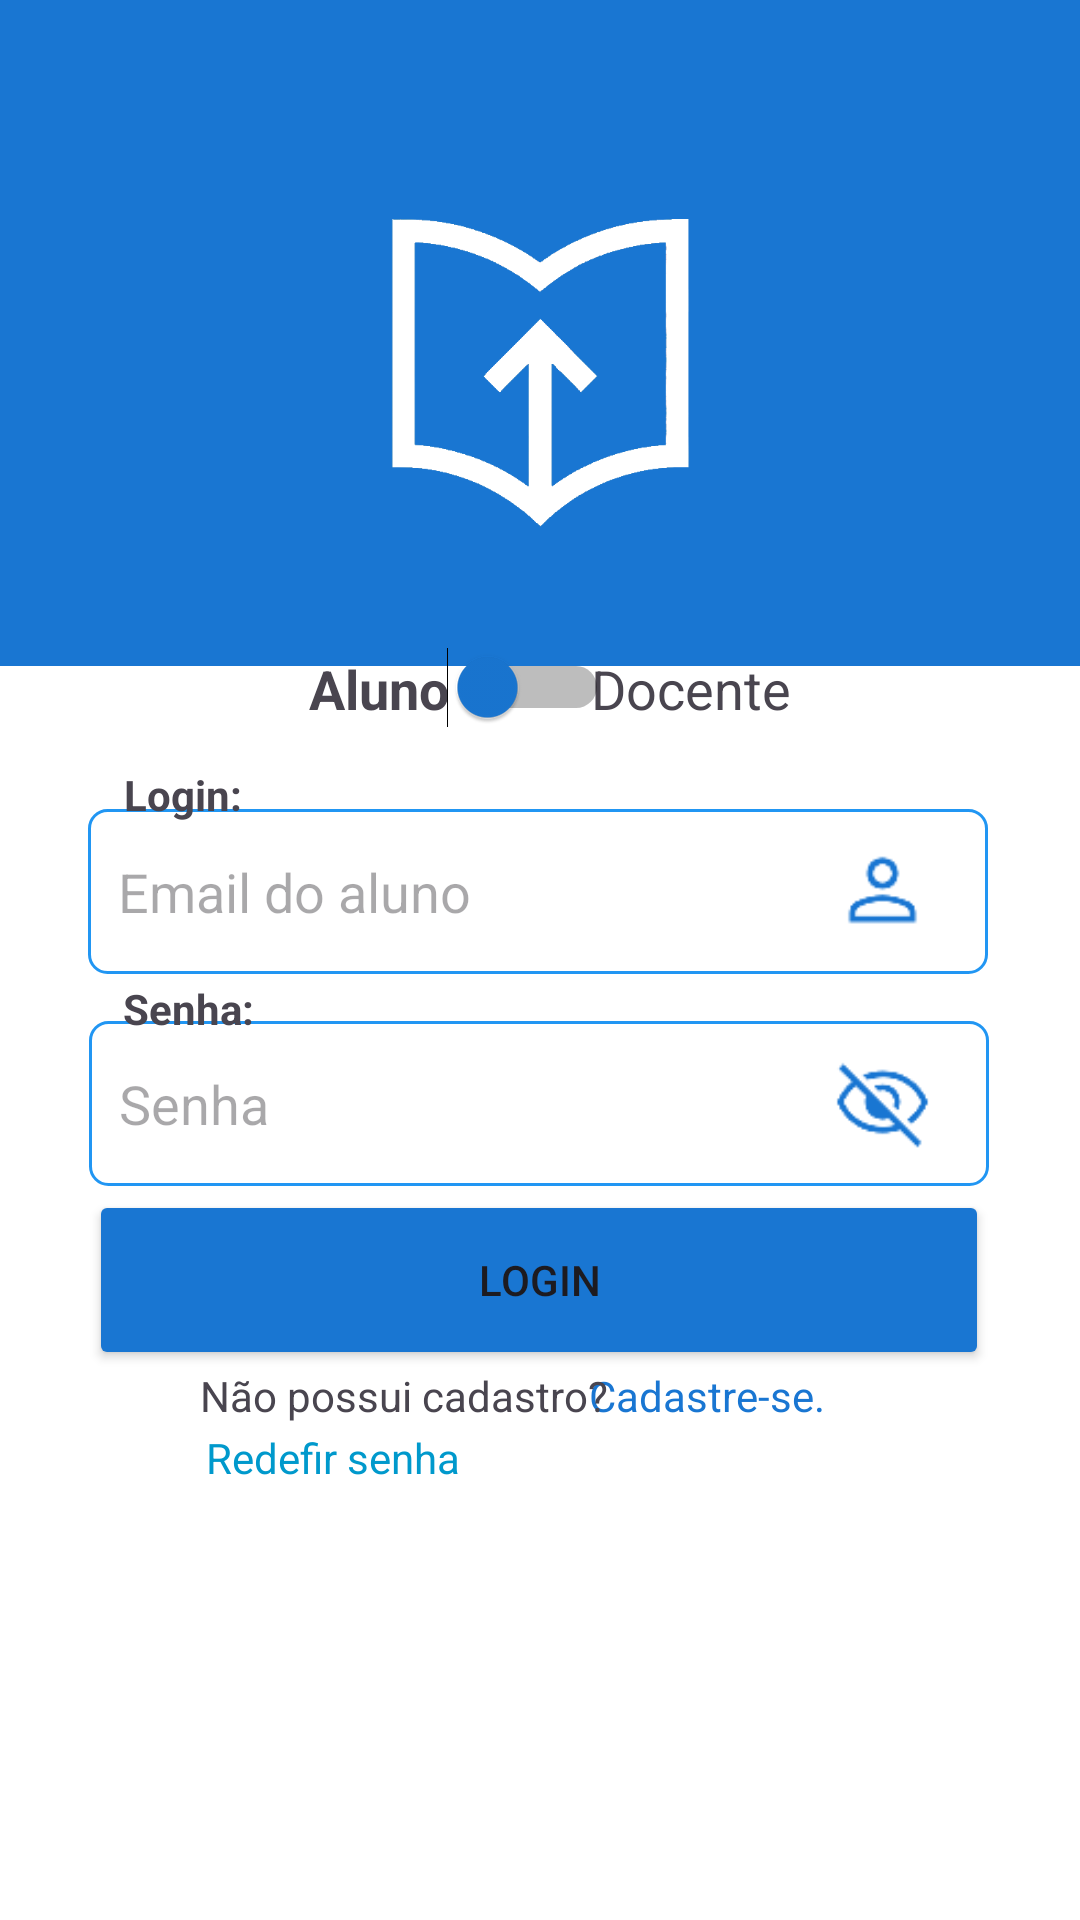

Named icons in this screenshot (1080 × 1920) and their bounding boxes, {"left": x1, "top": y1, "right": x2, "bottom": y2}:
fechado: {"left": 837, "top": 1063, "right": 928, "bottom": 1148}
pessoa: {"left": 848, "top": 856, "right": 917, "bottom": 924}
